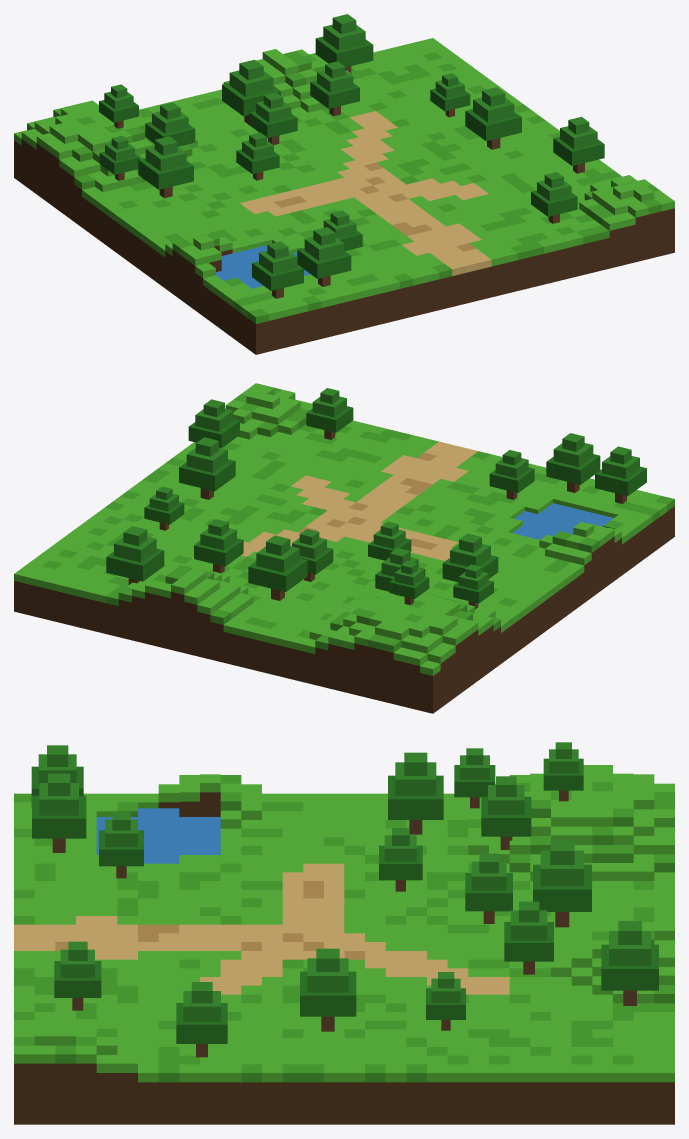
File: background_village_v2.glb
The picture shows the model from 3 angles, top to bottom: view 1: azimuth 30°, elevation 25°; view 2: azimuth 150°, elevation 25°; view 3: azimuth 270°, elevation 25°; orthographic projection. The views are drawn at different scales.
Parts seen in each view (by area): view 1: villageStage; view 2: villageStage; view 3: villageStage.
Boxes of the visible parts, x1=… form: villageStage: x1=14, y1=14, x2=674, y2=354; villageStage: x1=14, y1=383, x2=674, y2=713; villageStage: x1=14, y1=742, x2=674, y2=1124.
Size of the model in its own units: 25.6 by 6.08 by 25.6.
